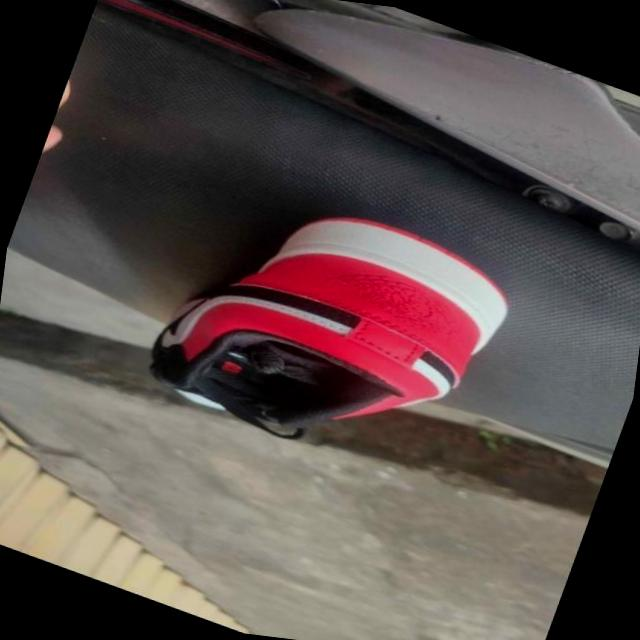nike_fake_jordan: (129, 152, 556, 510)
